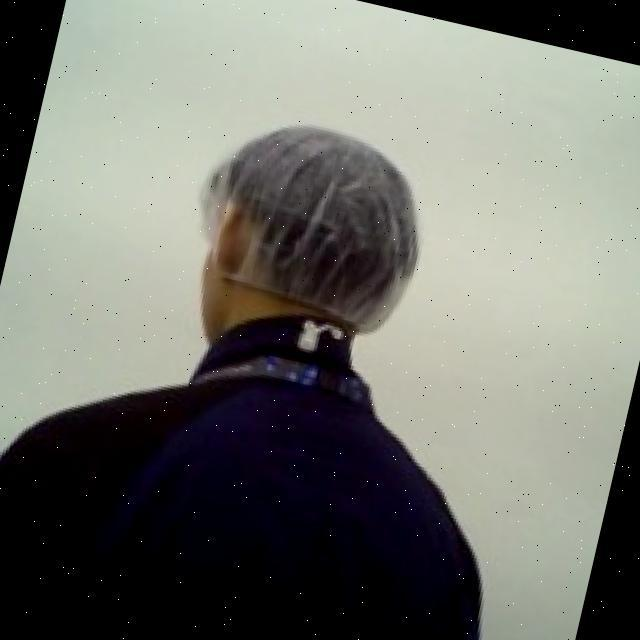gloves: (166, 101, 447, 360)
